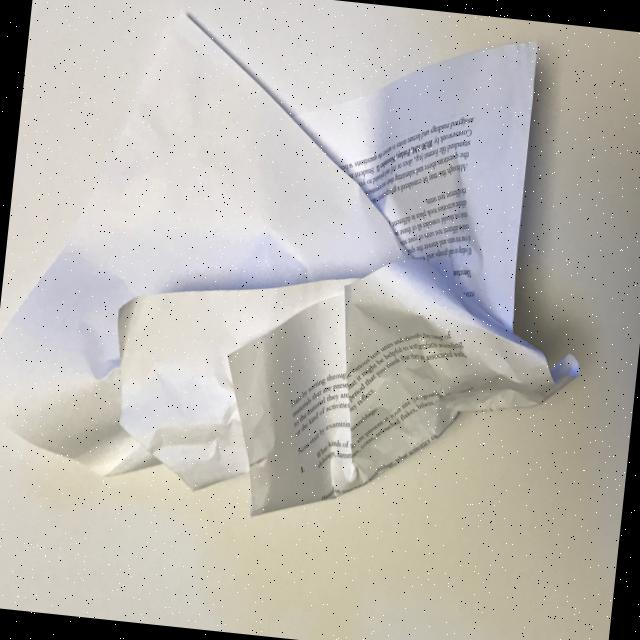paper: (0, 0, 611, 545)
